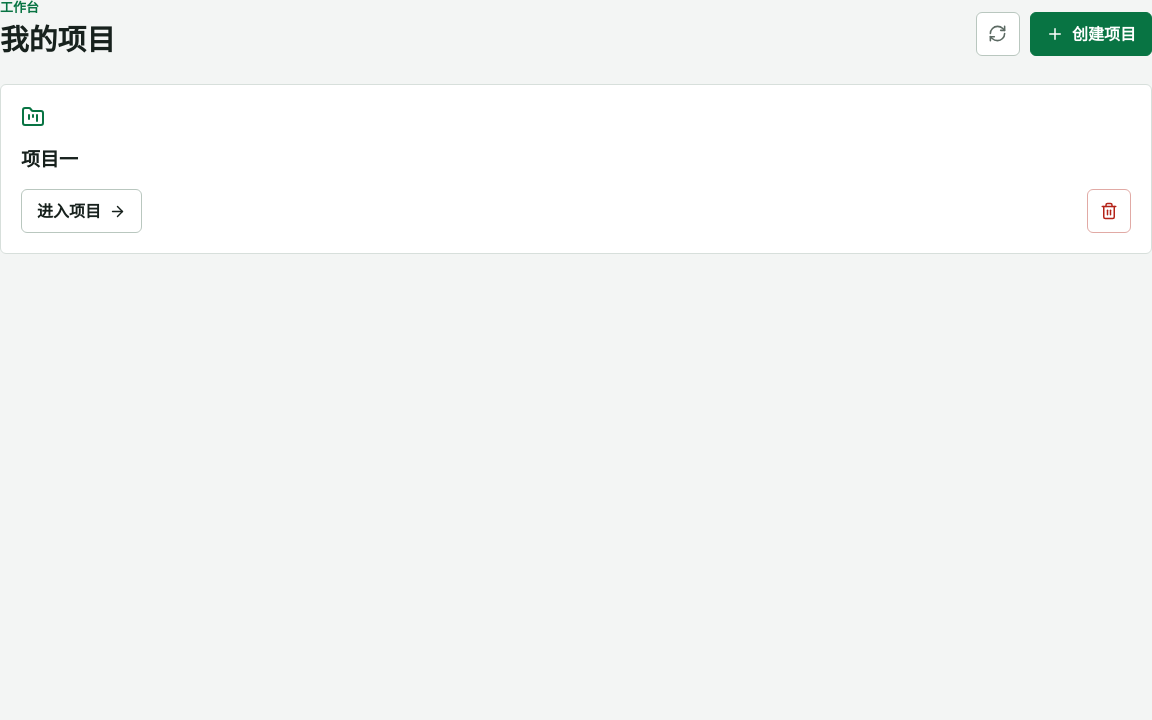
项目页面 › 确认后删除空项目并更新列表
The width and height of the screenshot is (1152, 720).
Click the button named "删除项目 项目一" at (1109, 211), box [1087,189,1131,233]
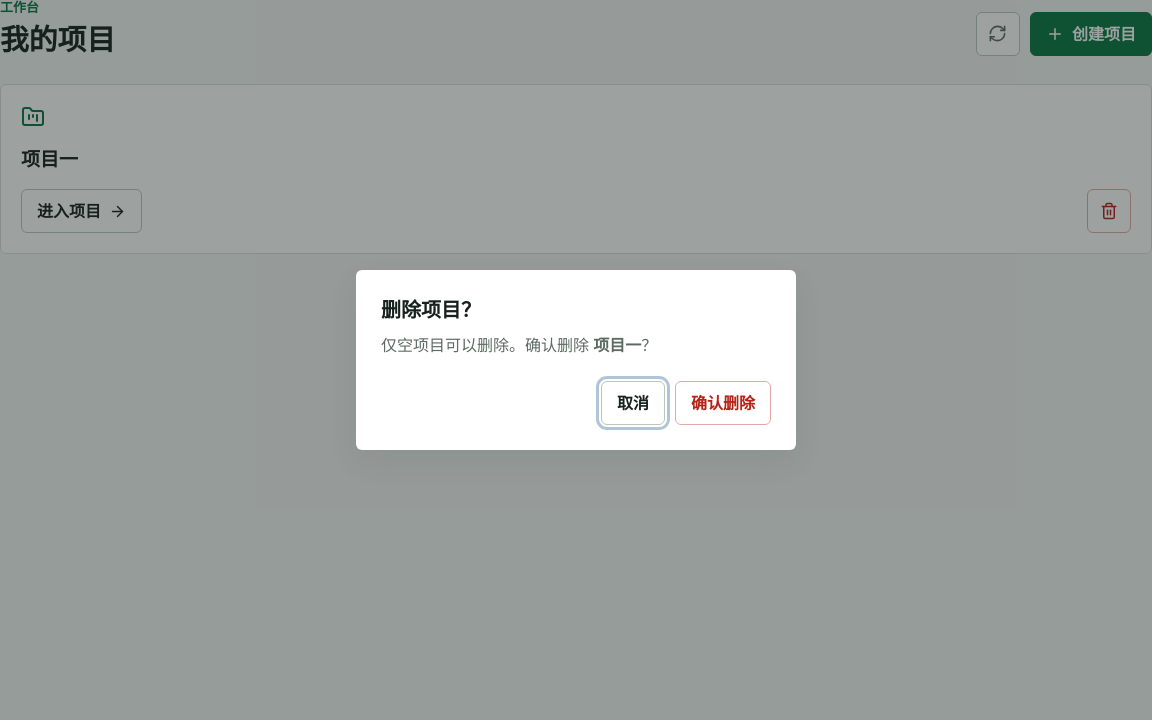
Submit the form, box [381,295,771,425]
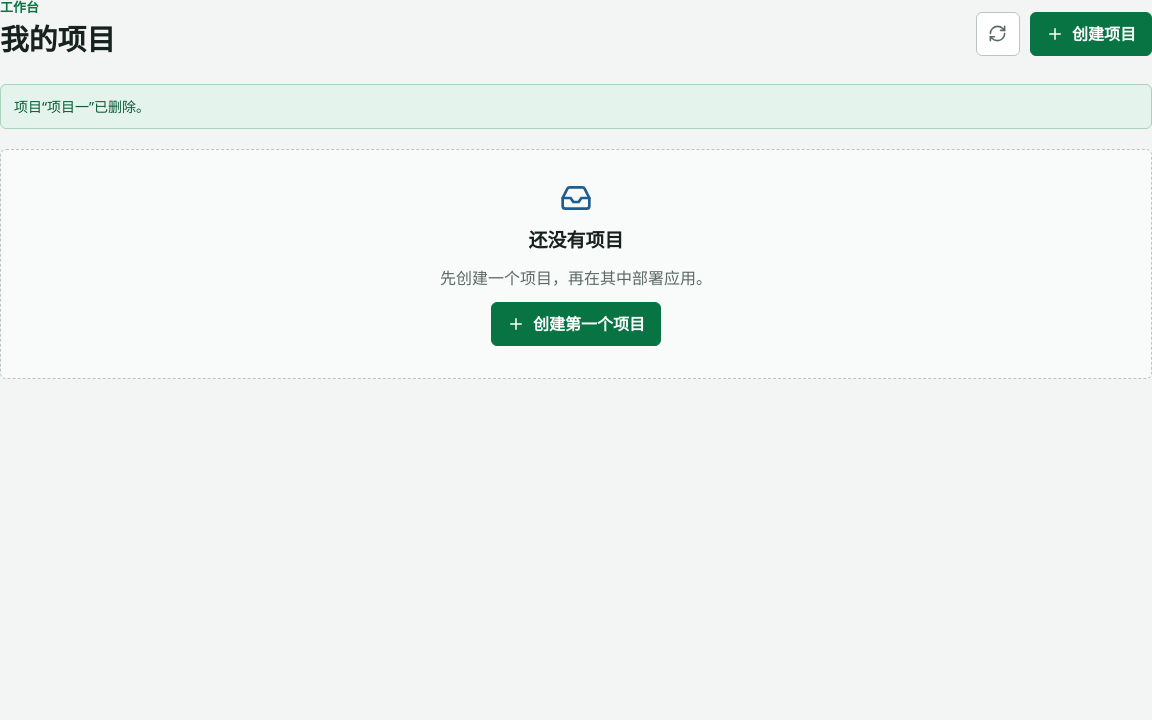
Result: the text "项目“项目一”已删除。" is shown at [0,84,1151,129]
